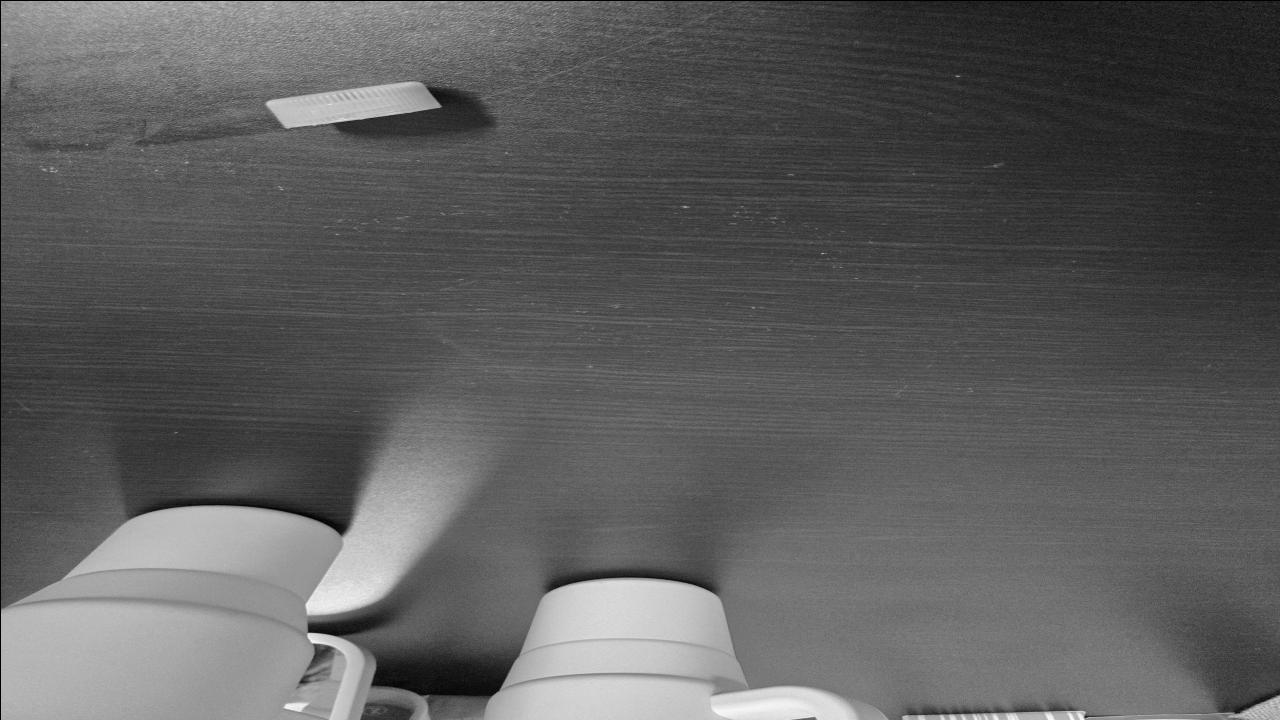bottle_cap: (262, 80, 446, 129)
